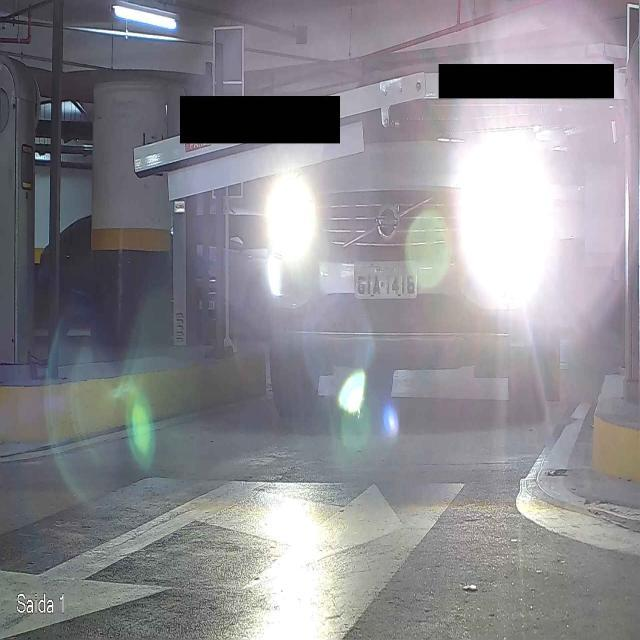old_plate: (352, 258, 419, 301)
